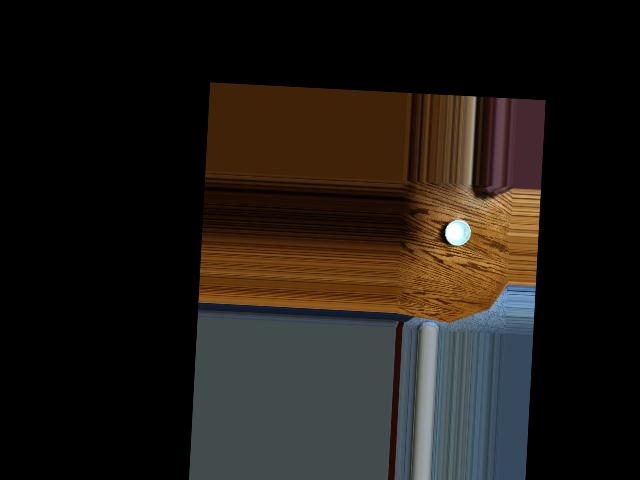cotage: (445, 213, 476, 248)
